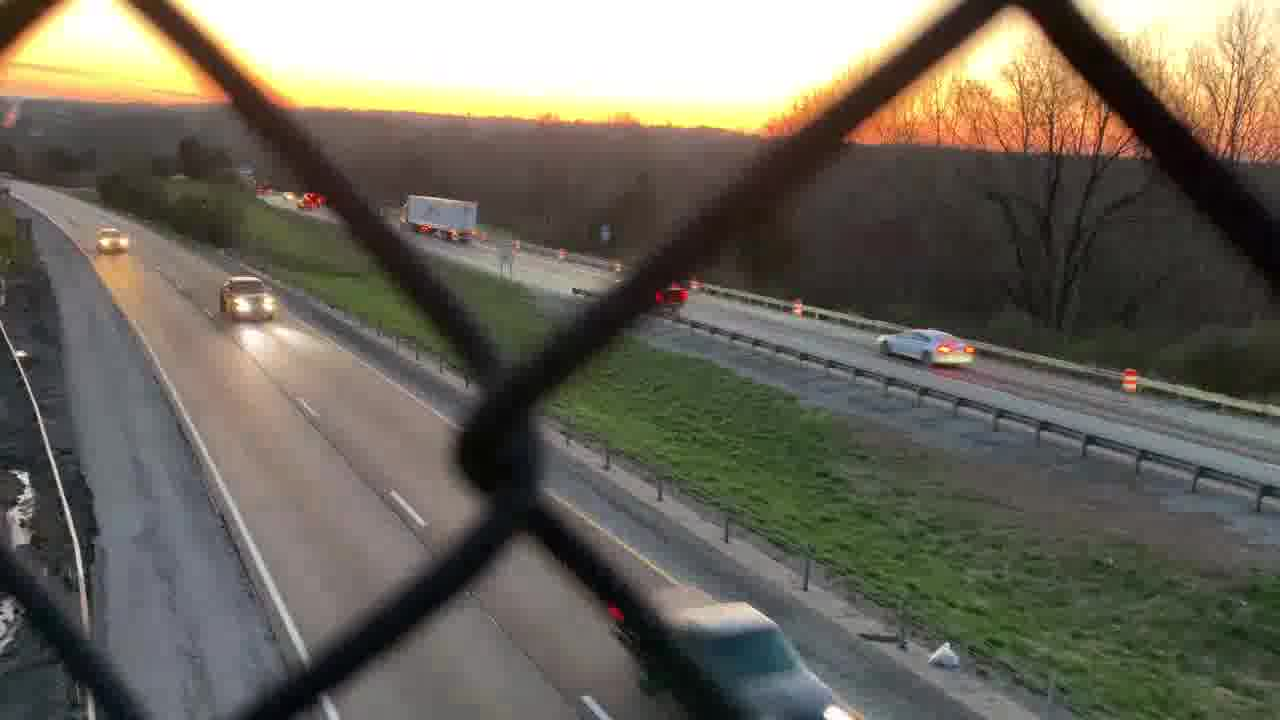heavyTruck: (397, 191, 482, 245)
lightTruck: (618, 577, 862, 720), (218, 272, 275, 324)
smallCar: (877, 325, 975, 375)
vehicle: (646, 277, 692, 308), (92, 225, 133, 259), (290, 196, 312, 214), (303, 193, 330, 204)
